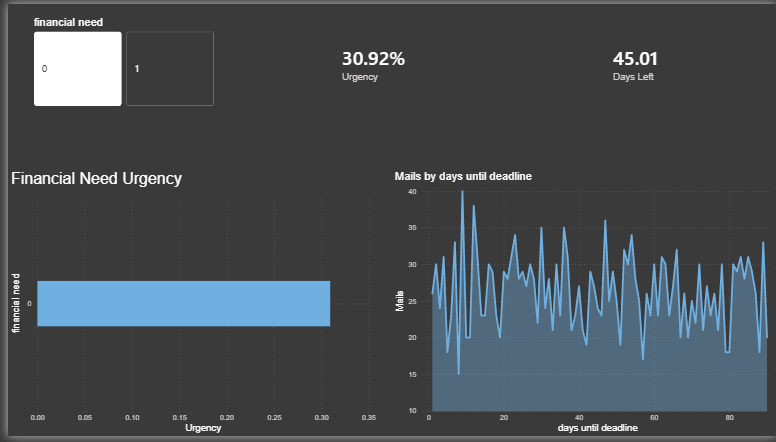

Layout of this report page (visuals, bound fields, positions):
{"tool":"powerbi","page":{"name":"Page 3","canvas":[1280,720],"ordinal":2},"visuals":[{"type":"cardVisual","fields":{"Data":["Avg(match_scores.days_until_deadline)"]},"box":[978.3,20,226.7,155],"z":0},{"type":"cardVisual","fields":{"Data":["Avg(match_scores.urgency_score)"]},"box":[526.7,20,226.7,155],"z":1},{"type":"areaChart","fields":{"Category":["match_scores.days_until_deadline"],"Y":["CountNonNull(match_scores.Row_Index)"]},"box":[640,276.7,640,443.3],"z":2},{"type":"clusteredBarChart","title":"Financial Need Urgency","fields":{"Category":["match_scores.financial_need"],"Y":["Avg(match_scores.urgency_score)"]},"box":[0,276.7,618.3,443.3],"z":3},{"type":"advancedSlicerVisual","fields":{"Values":["match_scores.financial_need"]},"box":[38.3,20,310,155],"z":4}]}

Visuals, with their boxes in screenshot pixels (x1, y1, x2, y2), scaled from the page's 1280x720 canvas onto the 776x442 screenshot:
cardVisual - Avg(match_scores.days_until_deadline): box=[593, 12, 731, 107]
cardVisual - Avg(match_scores.urgency_score): box=[319, 12, 457, 107]
areaChart - match_scores.days_until_deadline x CountNonNull(match_scores.Row_Index): box=[388, 170, 775, 441]
"Financial Need Urgency" clusteredBarChart: box=[0, 170, 375, 441]
advancedSlicerVisual - match_scores.financial_need: box=[23, 12, 211, 107]
